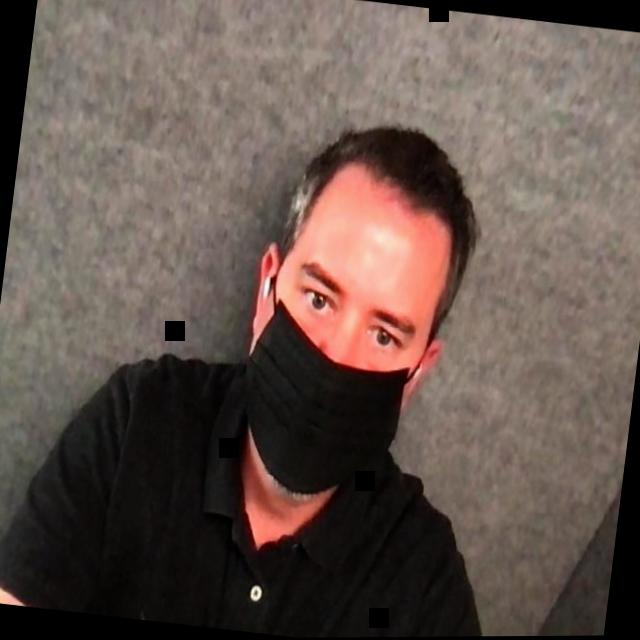Mask: (223, 109, 490, 517)
